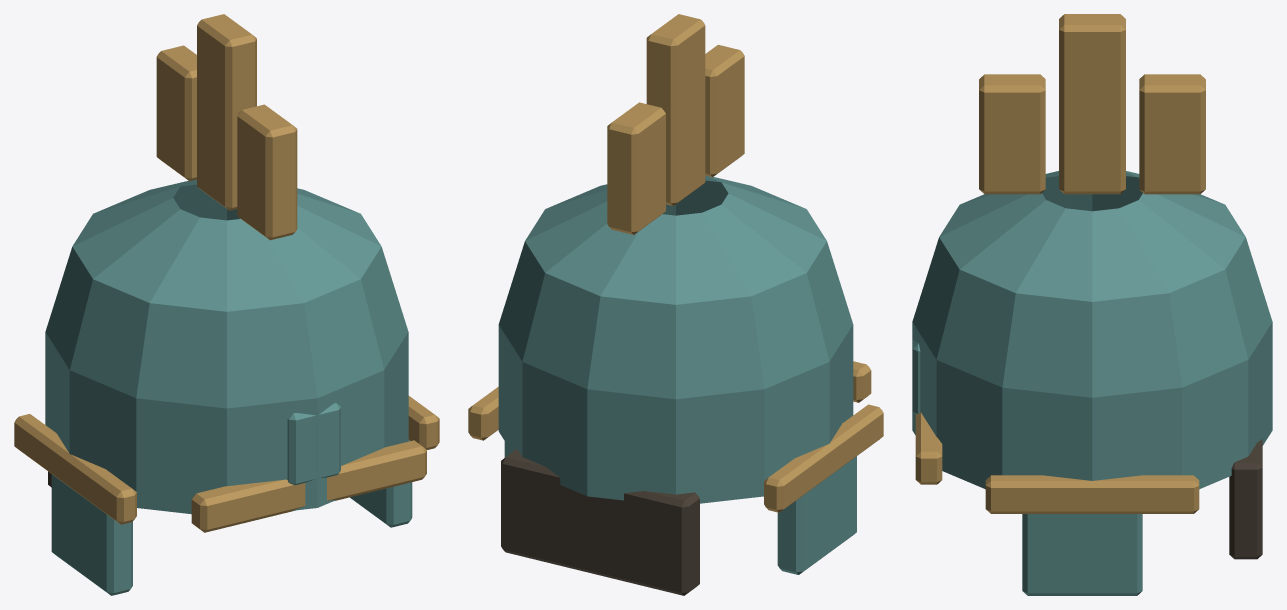
Rendered from last-watch-helm.glb.
3 views of the same model, side by side, from view 1: azimuth 30°, elevation 25°; view 2: azimuth 150°, elevation 25°; view 3: azimuth 270°, elevation 25° (orthographic). The views are drawn at different scales.
Parts seen in each view (by area): view 1: LastWatchHelm, Watch crest.001, Brow, Watch crest.002, Cheek guard, Watch crest, Bronze rim, Watch seal, Cheek guard.001, Bronze rim.001; view 2: LastWatchHelm, Neck guard, Watch crest.001, Watch crest, Cheek guard, Watch crest.002, Bronze rim, Bronze rim.001, Brow; view 3: LastWatchHelm, Watch crest.001, Cheek guard.001, Watch crest, Watch crest.002, Bronze rim.001, Neck guard, Brow, Watch seal.
Part boxes in pixels (box(x1,y1,x2,y2)): LastWatchHelm: box(45, 179, 408, 514); Watch crest.001: box(197, 14, 256, 210); Brow: box(191, 440, 426, 532); Watch crest.002: box(237, 104, 297, 240); Cheek guard: box(51, 474, 132, 595); Watch crest: box(156, 45, 196, 181); Bronze rim: box(14, 414, 136, 524); Watch seal: box(287, 403, 340, 485); Cheek guard.001: box(350, 440, 412, 527); Bronze rim.001: box(408, 396, 439, 449); LastWatchHelm: box(498, 175, 853, 503); Neck guard: box(501, 449, 699, 595); Watch crest.001: box(646, 14, 705, 205); Watch crest: box(607, 102, 665, 234); Cheek guard: box(777, 456, 856, 574); Watch crest.002: box(705, 44, 744, 177); Bronze rim: box(764, 404, 883, 512); Bronze rim.001: box(468, 386, 498, 440); Brow: box(853, 361, 871, 402); LastWatchHelm: box(912, 171, 1272, 489); Watch crest.001: box(1059, 14, 1125, 194); Cheek guard.001: box(1022, 514, 1142, 595); Watch crest: box(1139, 74, 1205, 194); Watch crest.002: box(979, 74, 1045, 194); Bronze rim.001: box(985, 475, 1199, 513); Neck guard: box(1229, 439, 1262, 559); Brow: box(915, 412, 942, 484); Watch seal: box(912, 339, 920, 414).
Size of the model in its own units: 0.555 by 0.835 by 0.54.
